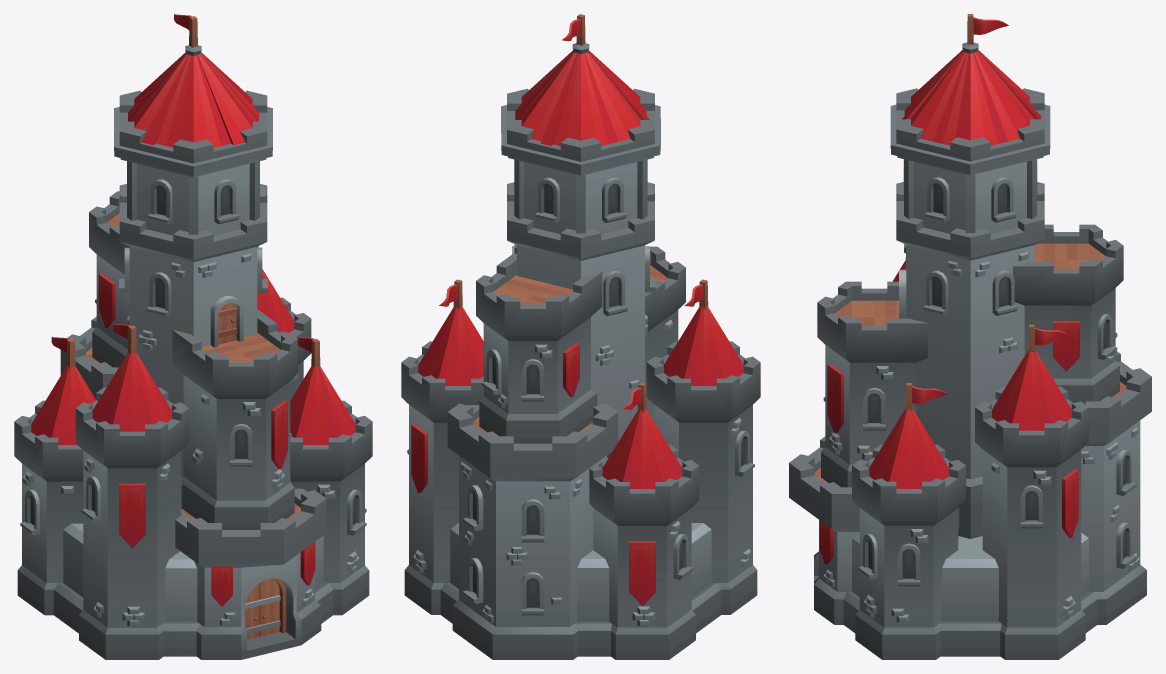
File: k-castle-kaykit.glb
The picture shows the model from 3 angles, left to right: view 1: azimuth 30°, elevation 25°; view 2: azimuth 150°, elevation 25°; view 3: azimuth 270°, elevation 25°; orthographic projection.
Parts seen in each view (by area): view 1: building_castle_red; view 2: building_castle_red; view 3: building_castle_red.
Part boxes in pixels (bbox=[...]): building_castle_red: bbox=[14, 14, 372, 659]; building_castle_red: bbox=[401, 14, 760, 659]; building_castle_red: bbox=[789, 14, 1151, 659].
Bounding box in the file's own units: 1.98 × 3.98 × 2.26.
1 material, 1 textured.
